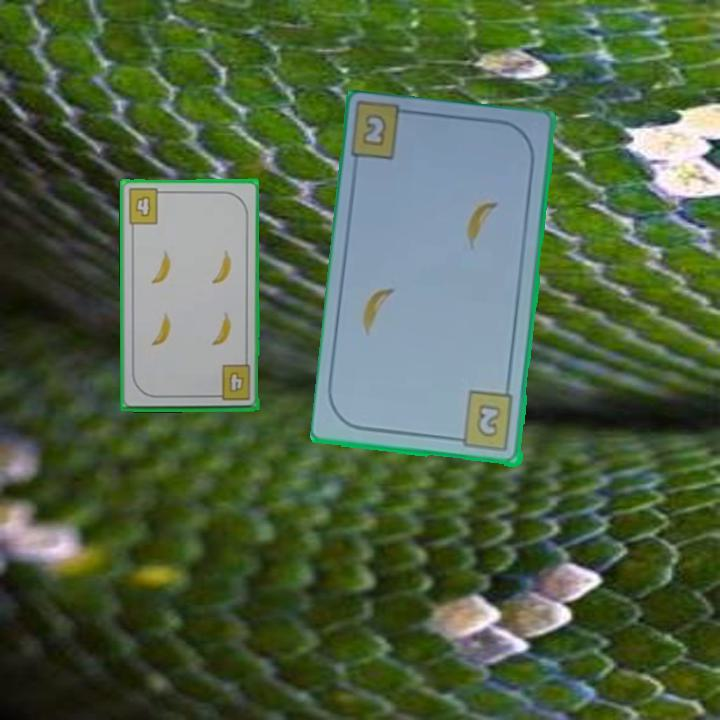2b: (450, 389, 516, 454), (359, 110, 390, 150)
4b: (124, 185, 168, 227), (210, 362, 253, 404)
